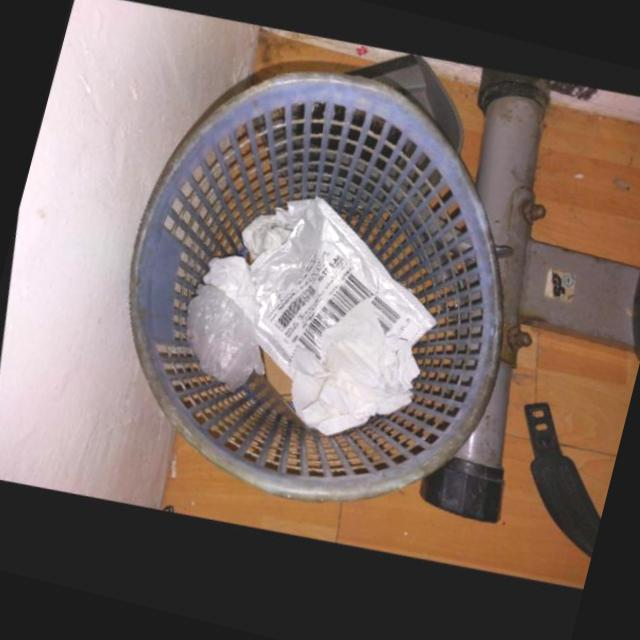giay: (285, 328, 417, 439), (236, 205, 309, 266), (199, 263, 257, 334)
tui_ni_long: (246, 202, 434, 385), (182, 291, 260, 400)
